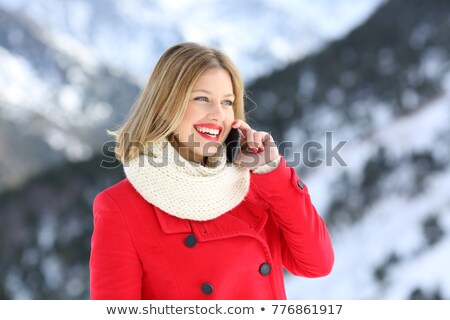phone: (225, 117, 253, 168)
talk: (179, 88, 278, 173)
